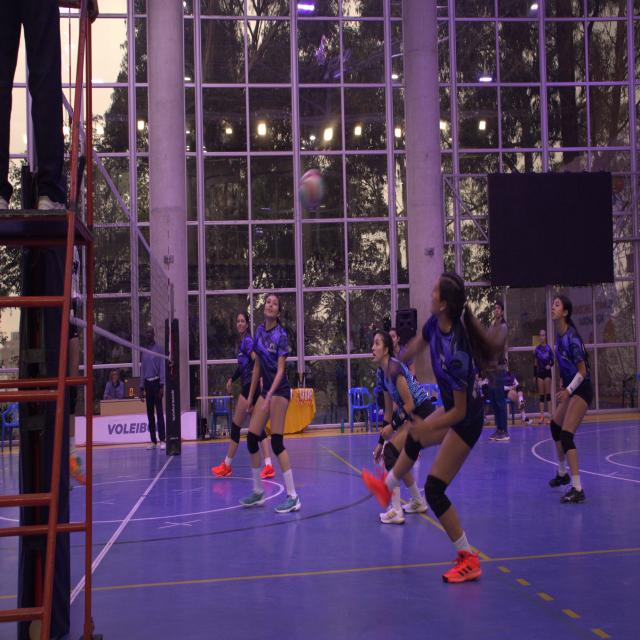volleyball: (299, 167, 327, 212)
